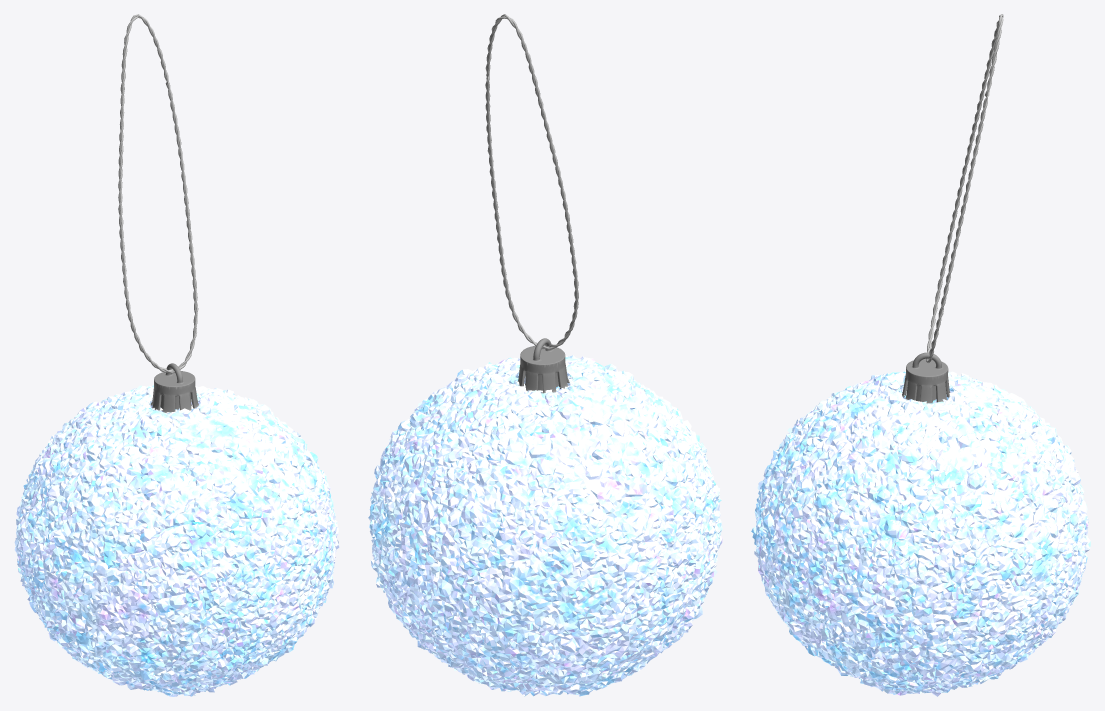
Rendered from blue_glitter.glb.
The picture shows the model from 3 angles, left to right: view 1: azimuth 30°, elevation 25°; view 2: azimuth 150°, elevation 25°; view 3: azimuth 270°, elevation 25°; orthographic projection. The views are drawn at different scales.
Parts seen in each view (by area): view 1: Mesh_0_1, GN Instance, Mesh_0001_2; view 2: Mesh_0_1, GN Instance, Mesh_0001_2; view 3: Mesh_0_1, GN Instance, Mesh_0001_2.
Part boxes in pixels (left/top/right/bottom): Mesh_0_1: left=14, top=385, right=339, bottom=696; GN Instance: left=118, top=14, right=198, bottom=373; Mesh_0001_2: left=150, top=363, right=198, bottom=412; Mesh_0_1: left=368, top=355, right=722, bottom=696; GN Instance: left=485, top=14, right=578, bottom=349; Mesh_0001_2: left=518, top=338, right=569, bottom=393; Mesh_0_1: left=751, top=370, right=1090, bottom=696; GN Instance: left=926, top=14, right=1003, bottom=363; Mesh_0001_2: left=902, top=352, right=950, bottom=403.
Bounding box in the file's own units: 0.0843 × 0.1812 × 0.0839.
Materials: 3 (1 with a texture image).
